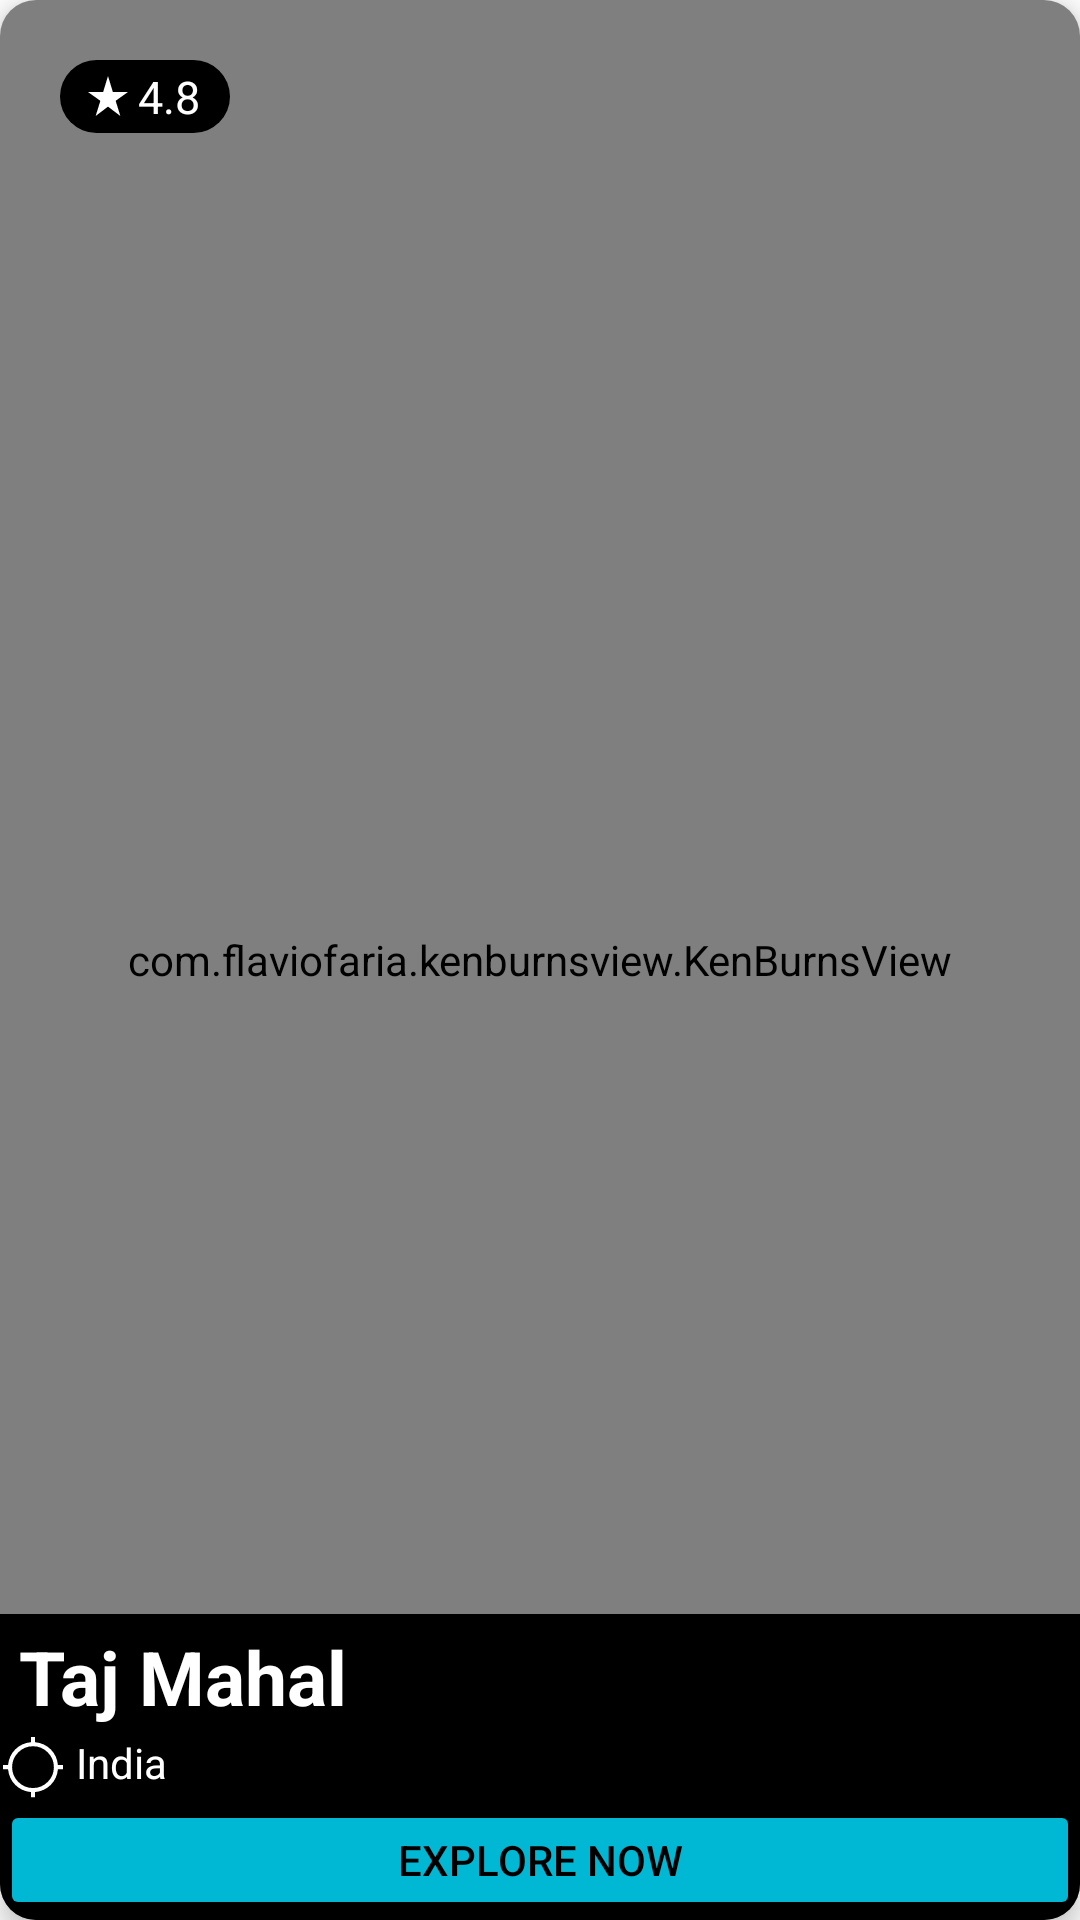

Screen size 1080*1920. Icon name, then its box in pixels as (x1,y1,x2,y2):
starrate: (88,76,128,116)
